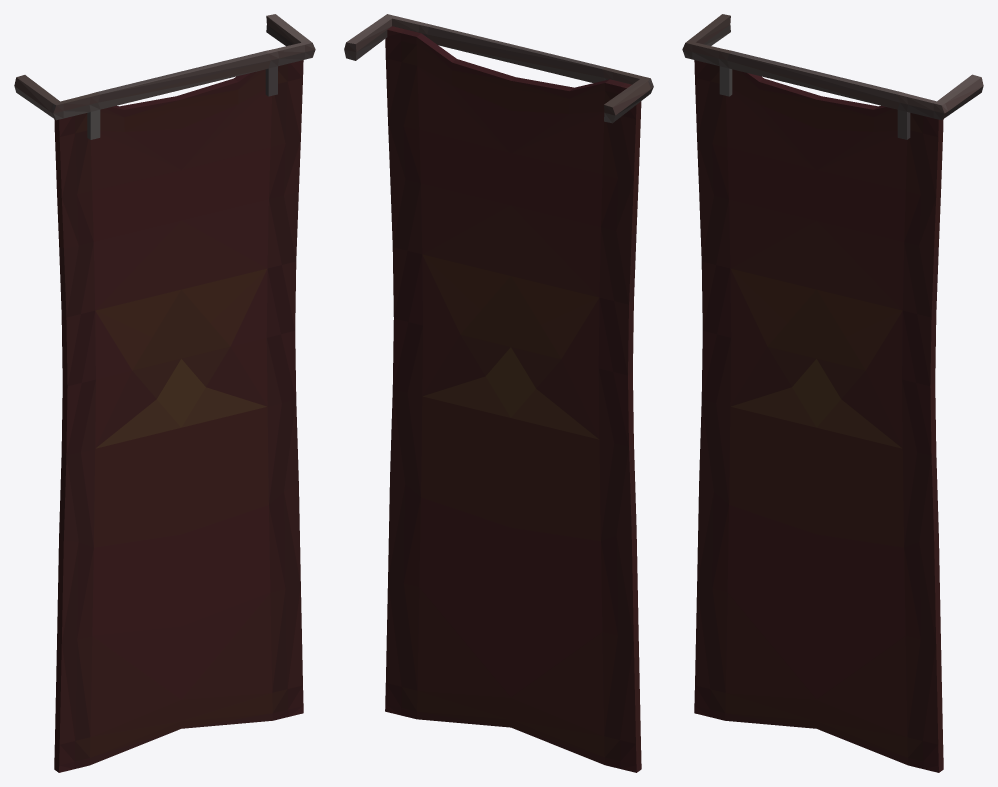
Rendered from prop_decor_banner_hang_1.fbx.
The picture shows the model from 3 angles, left to right: view 1: azimuth 30°, elevation 25°; view 2: azimuth 150°, elevation 25°; view 3: azimuth 330°, elevation 25°; orthographic projection. The views are drawn at different scales.
Visible parts, largest first — view 1: prop_decor_banner_hang_1; view 2: prop_decor_banner_hang_1; view 3: prop_decor_banner_hang_1.
Part boxes in pixels (x1,y1,x2,y2): prop_decor_banner_hang_1: (14,14,315,772); prop_decor_banner_hang_1: (344,14,653,772); prop_decor_banner_hang_1: (682,14,983,772).
Bounding box in the file's own units: 1.61 × 3.92 × 0.4078.
